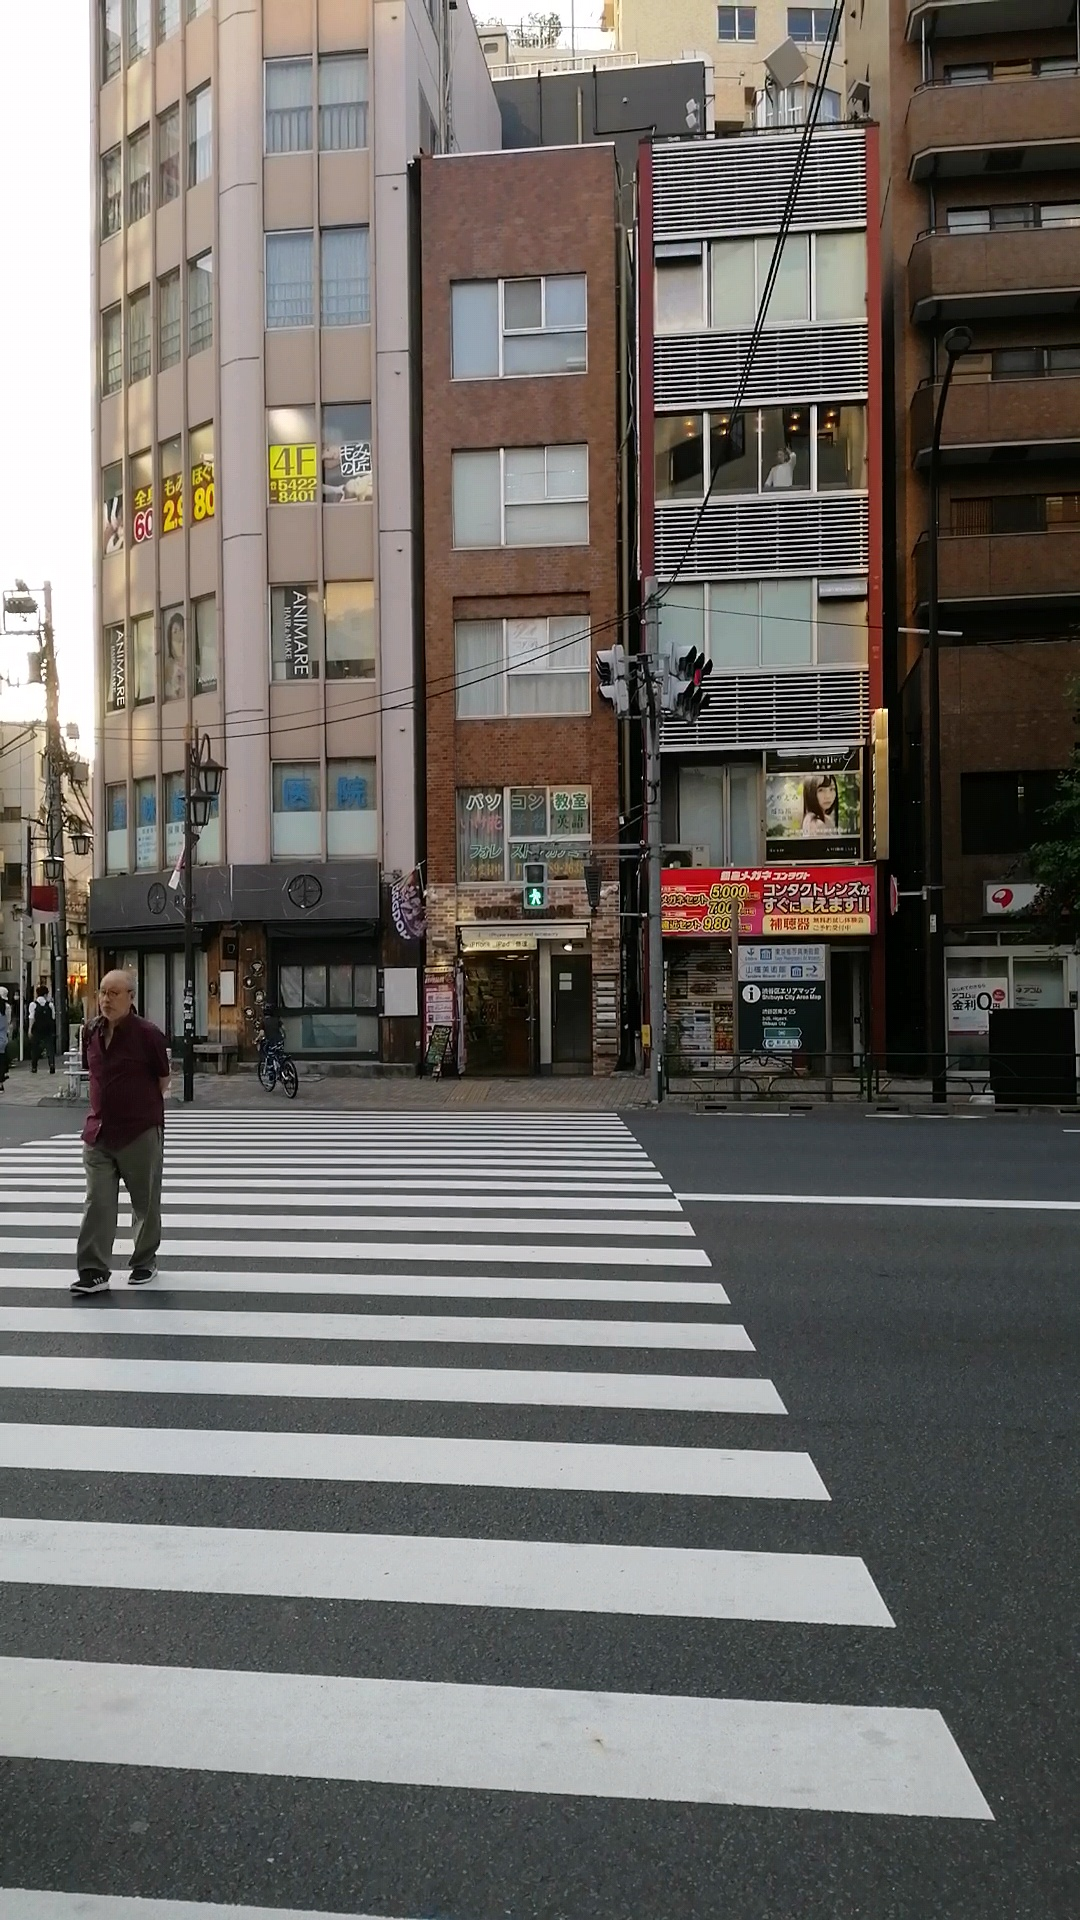green: (522, 862, 546, 910)
